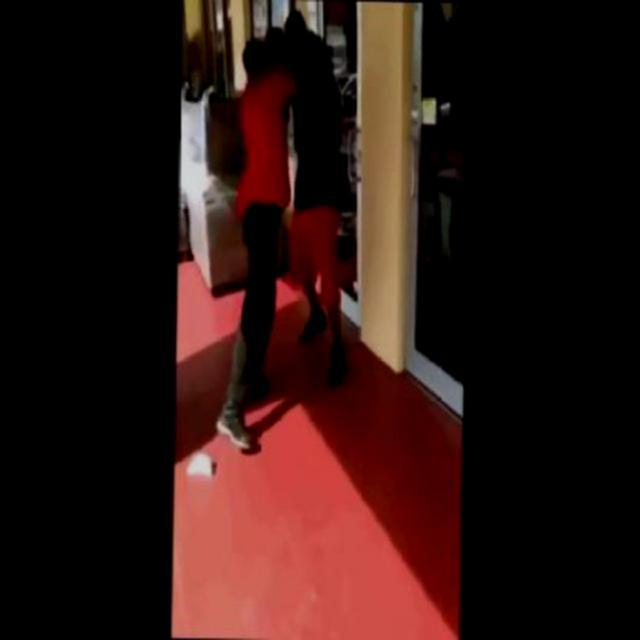fight: (216, 8, 355, 456)
